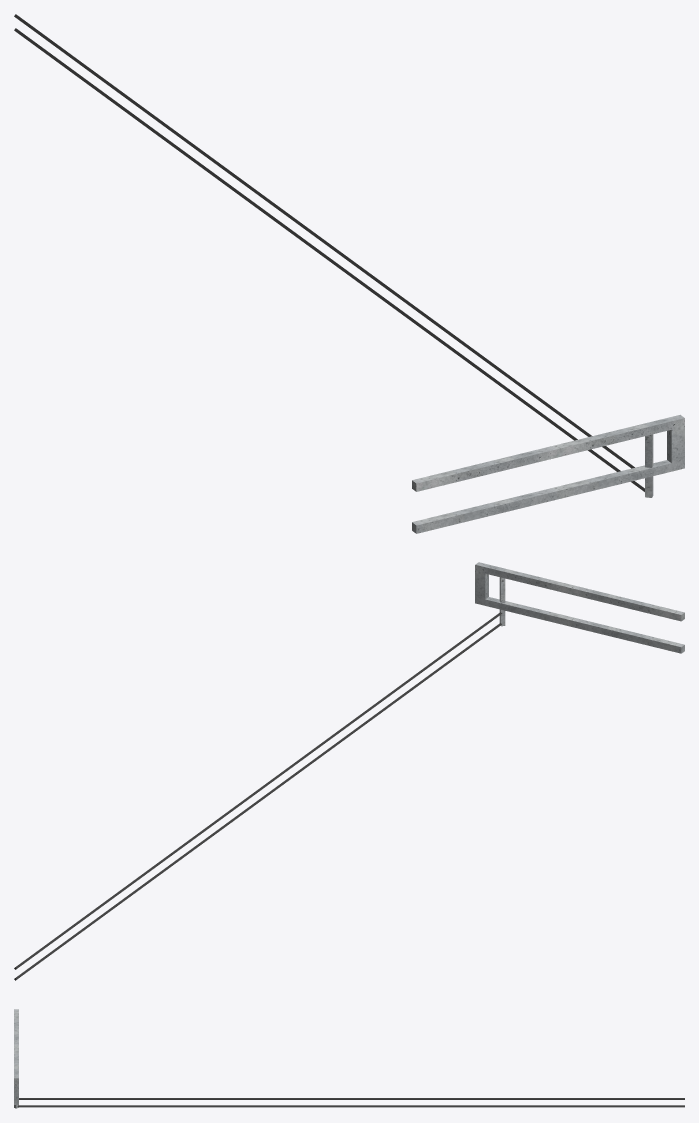
Rendered from train_wire.glb.
The picture shows the model from 3 angles, top to bottom: view 1: azimuth 30°, elevation 25°; view 2: azimuth 150°, elevation 25°; view 3: azimuth 270°, elevation 25°; orthographic projection. The views are drawn at different scales.
Visible parts, largest first — view 1: Prop.train_wire; view 2: Prop.train_wire; view 3: Prop.train_wire.
Boxes of the visible parts, x1,y1,x2,y2 form: Prop.train_wire: (14,14,684,533); Prop.train_wire: (14,562,684,980); Prop.train_wire: (14,1009,684,1108).
Size of the model in its own units: 2.01 by 0.5147 by 8.25.
2 materials, 1 textured.
